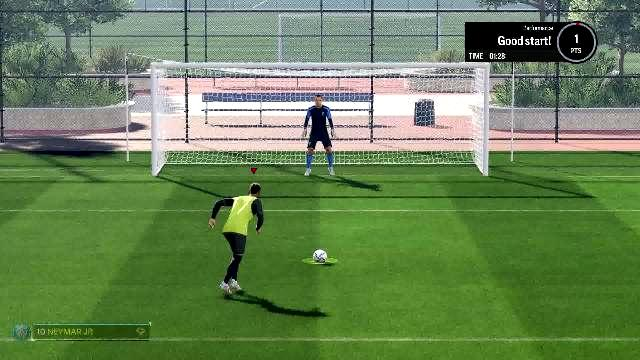bottom-left: (165, 132, 265, 178)
bottom-right: (372, 130, 474, 174)
center-down: (264, 129, 370, 175)
center-up: (266, 74, 370, 128)
circle: (300, 257, 338, 265)
football: (313, 250, 329, 264)
goalkeeper: (301, 94, 343, 178)
player: (205, 184, 268, 302)
top-left: (162, 74, 262, 128)
top-right: (371, 73, 479, 129)
